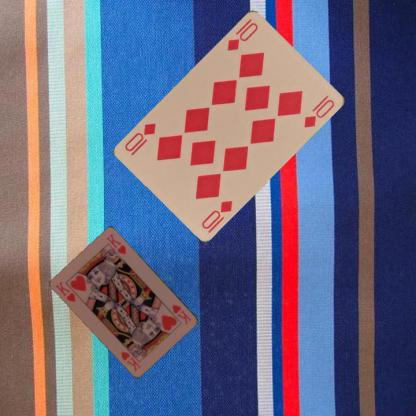10d: (224, 16, 260, 52), (199, 197, 234, 230)
Kh: (53, 278, 77, 303), (170, 301, 193, 326)
